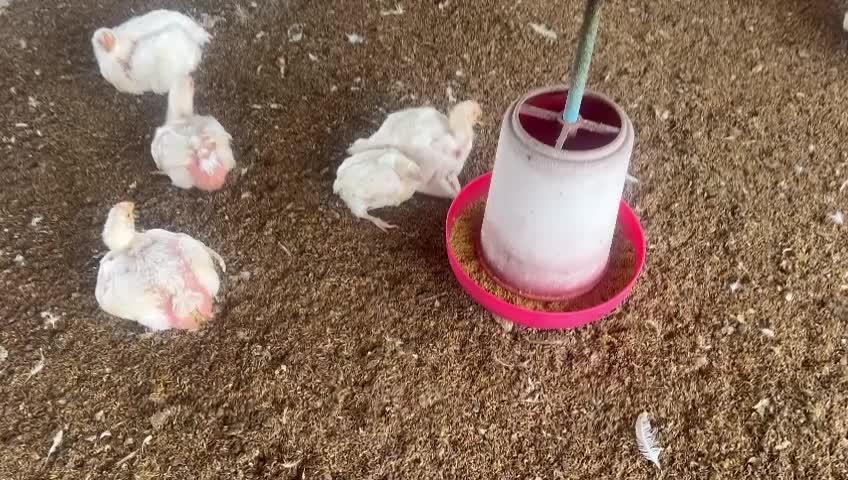AbNormal: (90, 191, 234, 346), (374, 102, 491, 195), (336, 136, 433, 231)
Normal: (144, 73, 260, 208), (88, 5, 221, 103)
